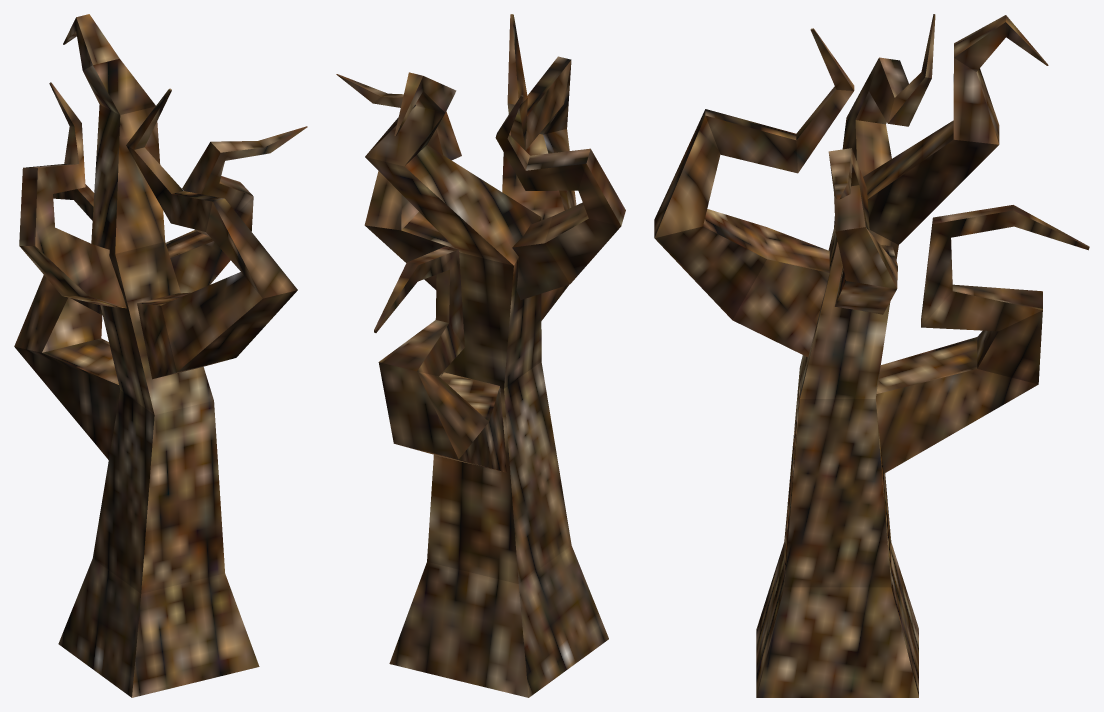
Rendered from Tree.fbx.
3 renders of one model, left to right at view 1: azimuth 30°, elevation 25°; view 2: azimuth 150°, elevation 25°; view 3: azimuth 270°, elevation 25°, orthographic. The views are drawn at different scales.
Visible parts, largest first — view 1: Tree; view 2: Tree; view 3: Tree.
Boxes of the visible parts, x1=… form: Tree: x1=14, y1=14, x2=307, y2=697; Tree: x1=336, y1=14, x2=625, y2=697; Tree: x1=654, y1=14, x2=1089, y2=697.
Size of the model in its own units: 646 by 1315 by 803.
